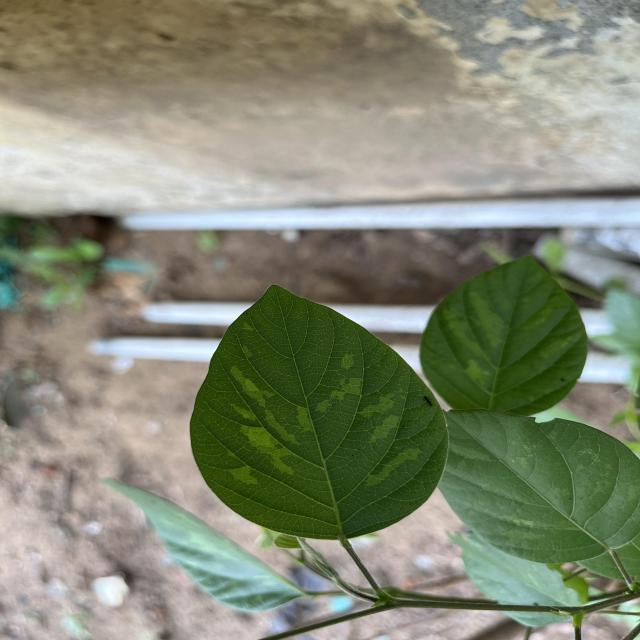Desmodium gangeticum: (185, 280, 454, 546)
